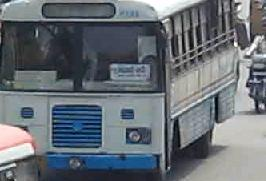Bus: (0, 0, 235, 175)
